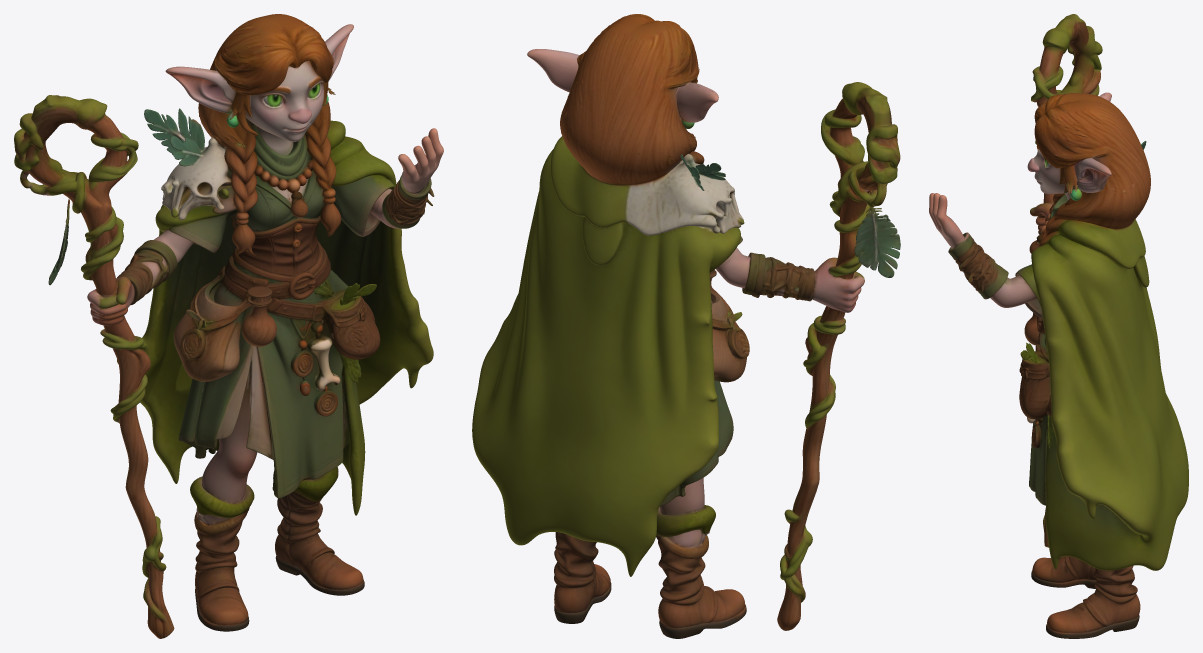
File: halfling_druid_full_female_01.glb
3 views of the same model, side by side, from view 1: azimuth 30°, elevation 25°; view 2: azimuth 150°, elevation 25°; view 3: azimuth 270°, elevation 25° (orthographic). The views are drawn at different scales.
Parts seen in each view (by area): view 1: material; view 2: material; view 3: material.
Boxes of the visible parts, x1=… form: material: x1=14, y1=14, x2=443, y2=638; material: x1=472, y1=14, x2=900, y2=638; material: x1=929, y1=14, x2=1188, y2=638.
Bounding box in the file's own units: 0.7757 × 1.04 × 0.4819.
1 material, 1 textured.
